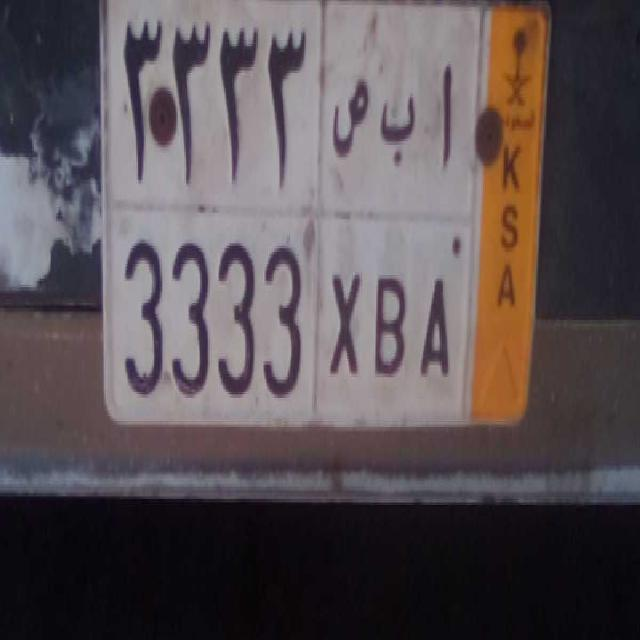license_plate: (110, 201, 464, 462)
